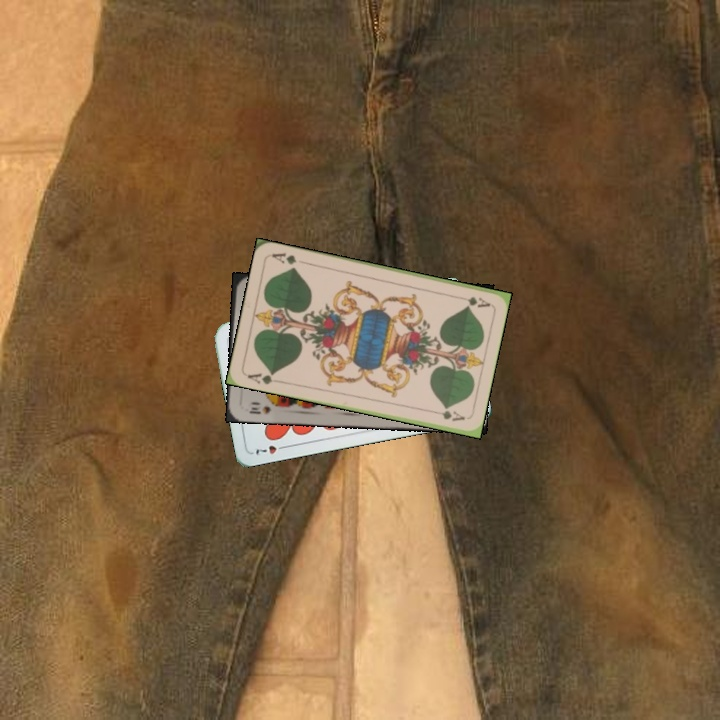GA: (243, 368, 283, 387), (453, 292, 492, 310)
H7: (252, 441, 290, 458)
S10: (245, 398, 274, 417)
